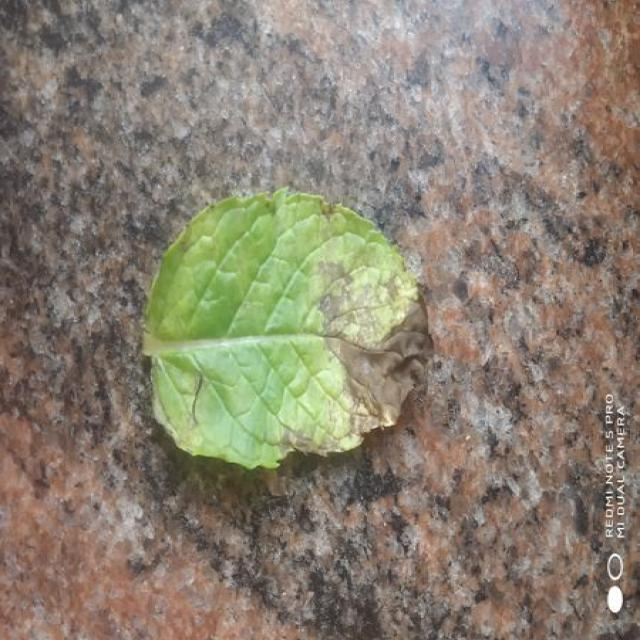mint: (143, 189, 432, 469)
